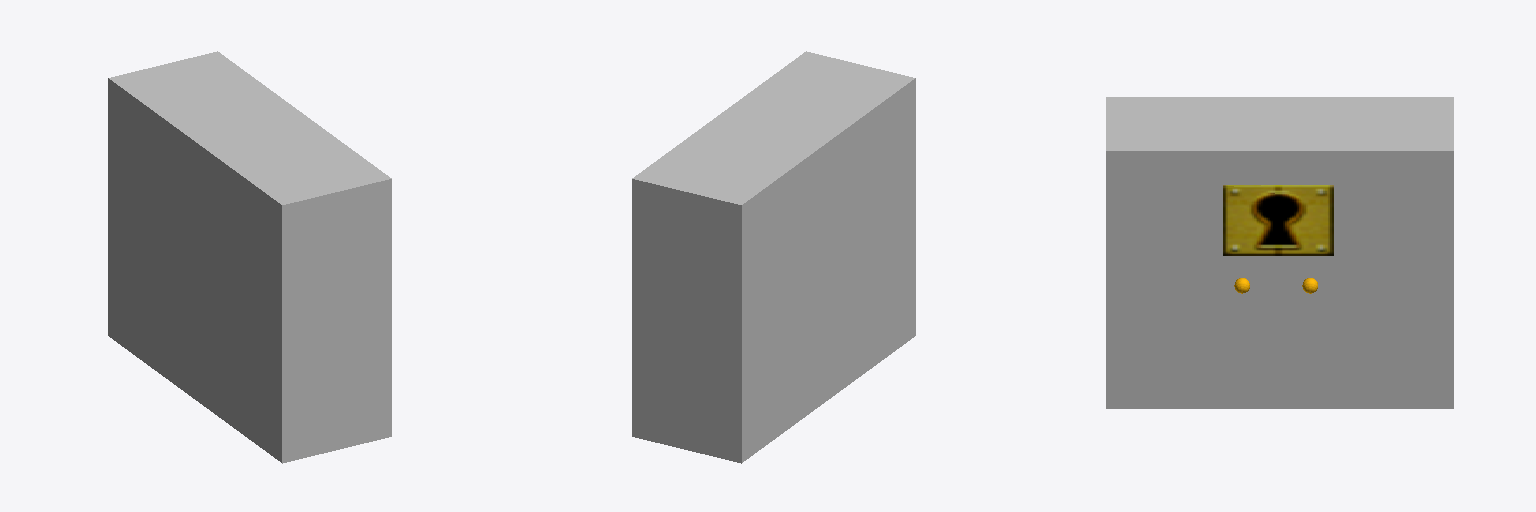
The picture shows the model from 3 angles: view 1: azimuth 30°, elevation 25°; view 2: azimuth 150°, elevation 25°; view 3: azimuth 270°, elevation 25°; orthographic projection.
Visible parts, largest first — view 1: Keydoor; view 2: Keydoor; view 3: Keydoor.
Part boxes in pixels (bbox=[...]): Keydoor: bbox=[108, 51, 391, 463]; Keydoor: bbox=[632, 51, 915, 463]; Keydoor: bbox=[1106, 97, 1453, 408].
Bounding box in the file's own units: 1.77 × 3.6 × 4.4.
Materials: 3 (1 with a texture image).